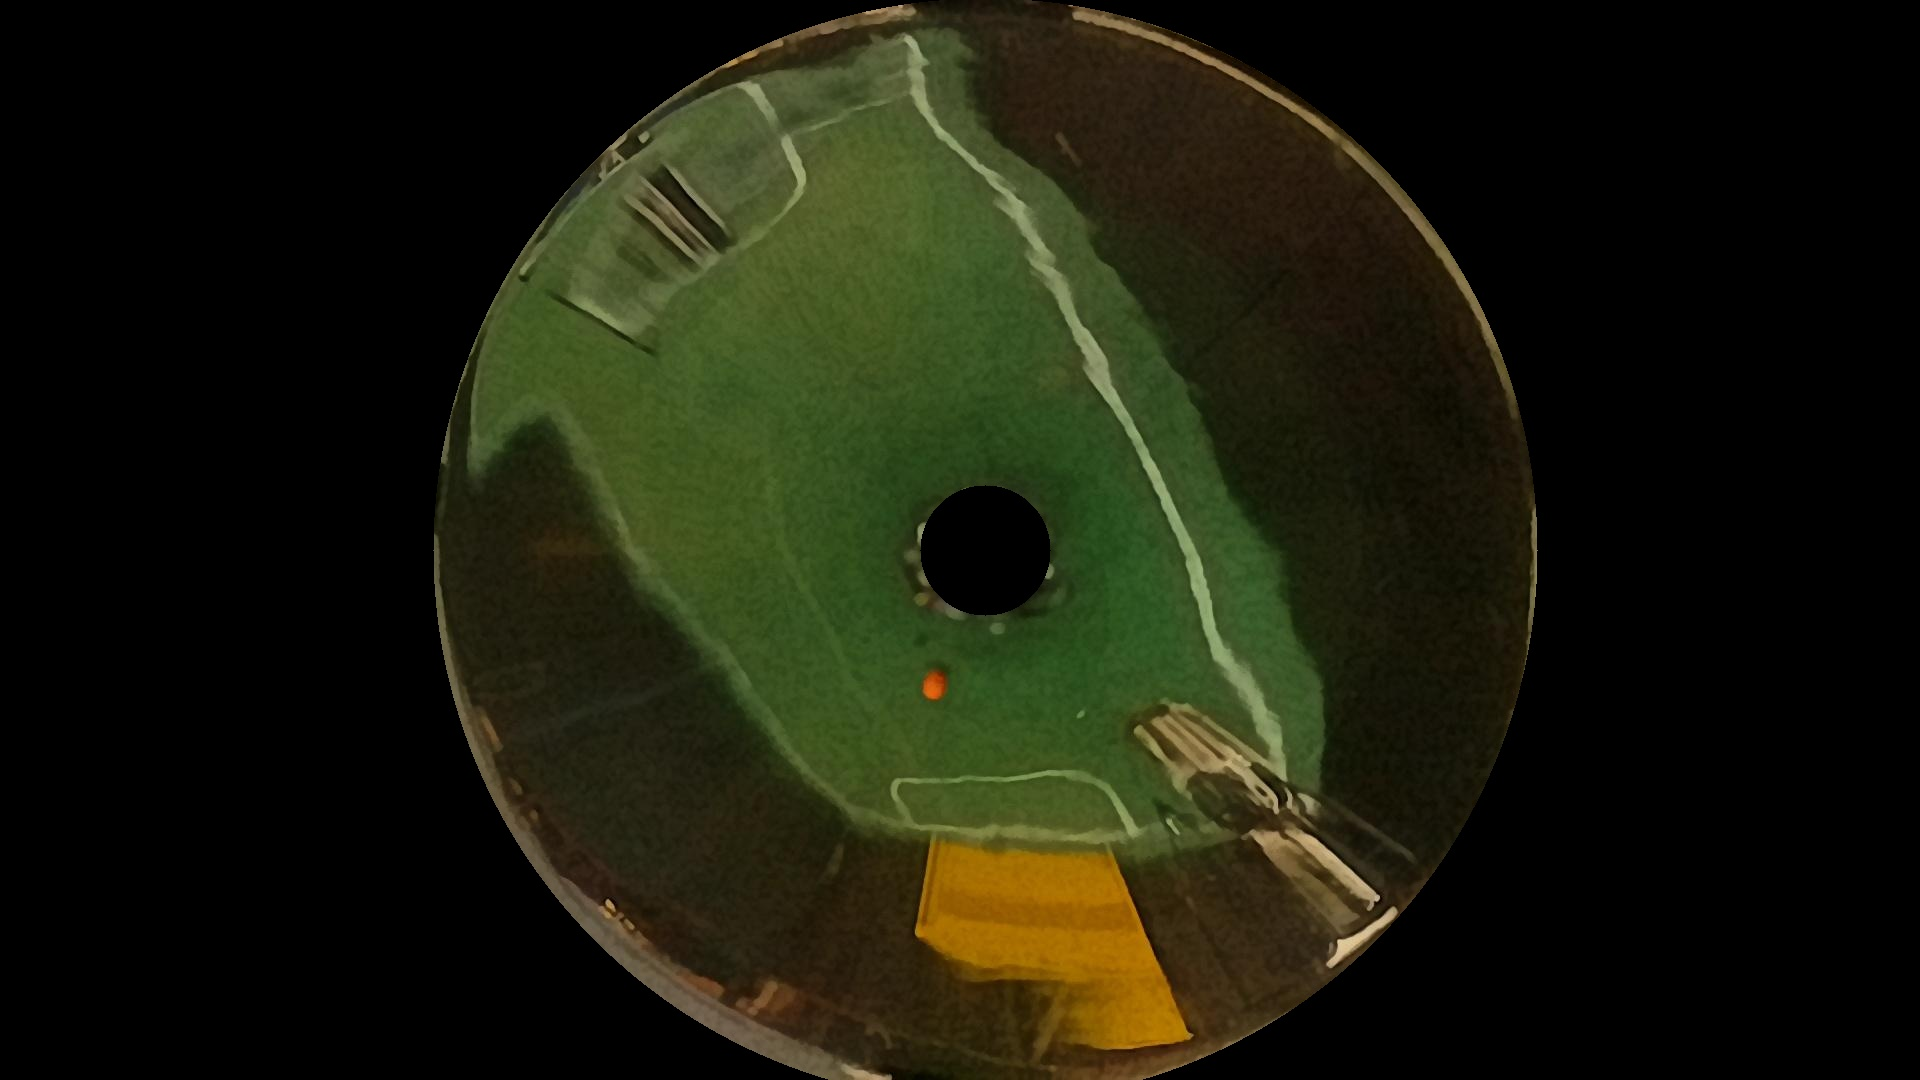ball: (915, 658, 949, 708)
robots: (1118, 687, 1394, 940)
yellow-goal: (914, 816, 1183, 1038)
